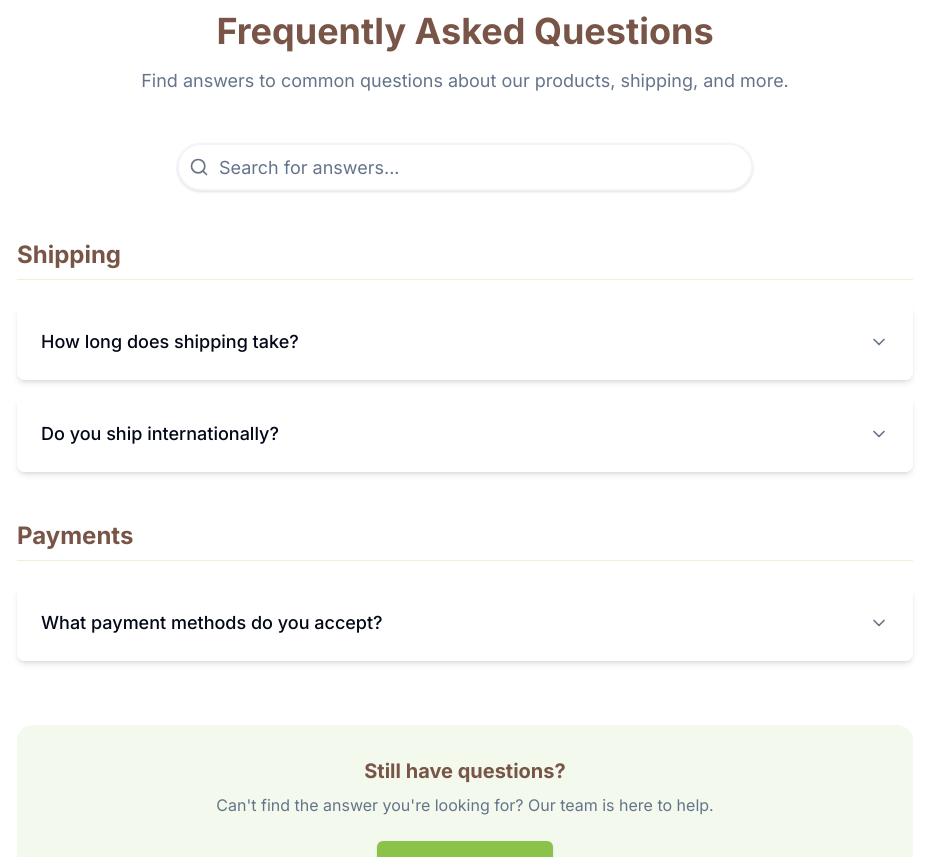
FAQClient › filters FAQs based on search query
Type "payment" into the field with placeholder "Search for answers...". click: (465, 167)
box: [177,143,753,191]
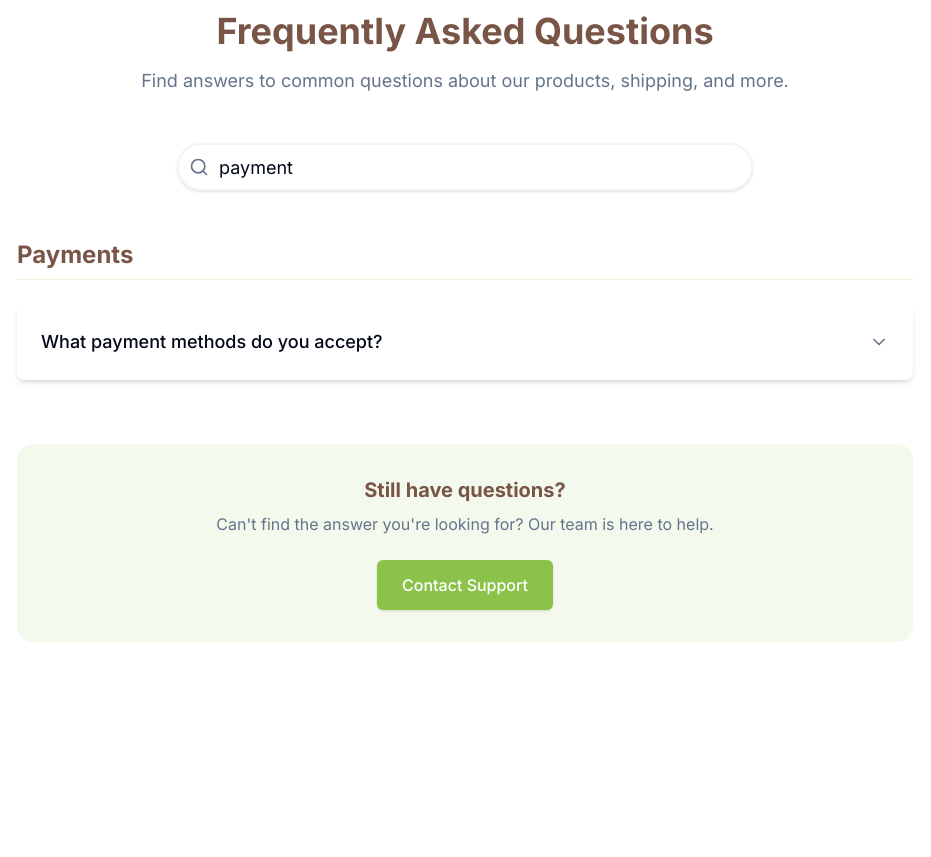
Expected: the heading "What payment methods do you accept?" is shown, [41,328,415,356]
Expected: the heading "How long does shipping take?" is gone
